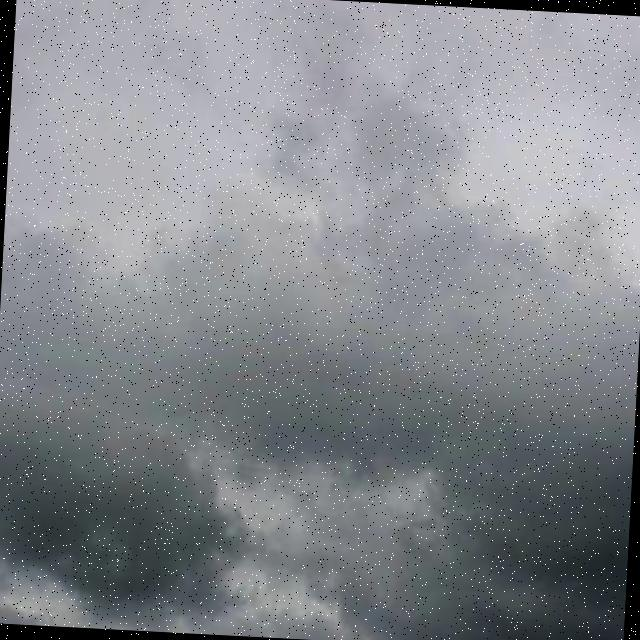As: (1, 43, 640, 640)
